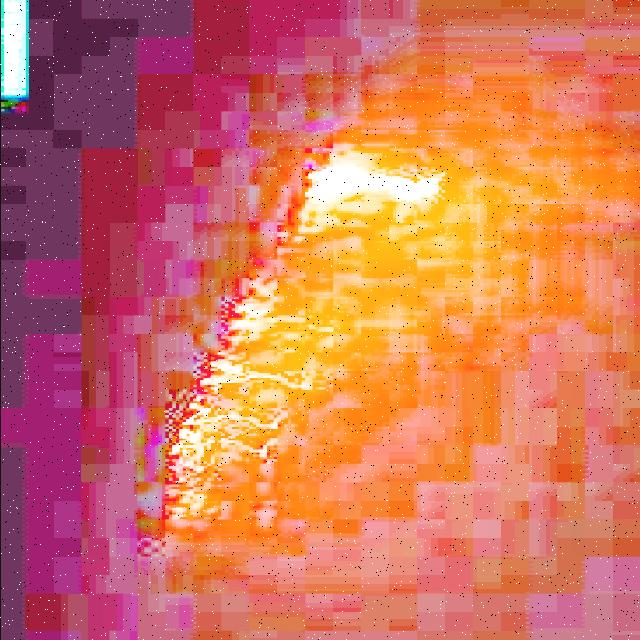api: (297, 165, 429, 204), (171, 415, 223, 459), (227, 310, 283, 346), (202, 366, 250, 390)
asap: (391, 208, 629, 374), (445, 79, 621, 196)
